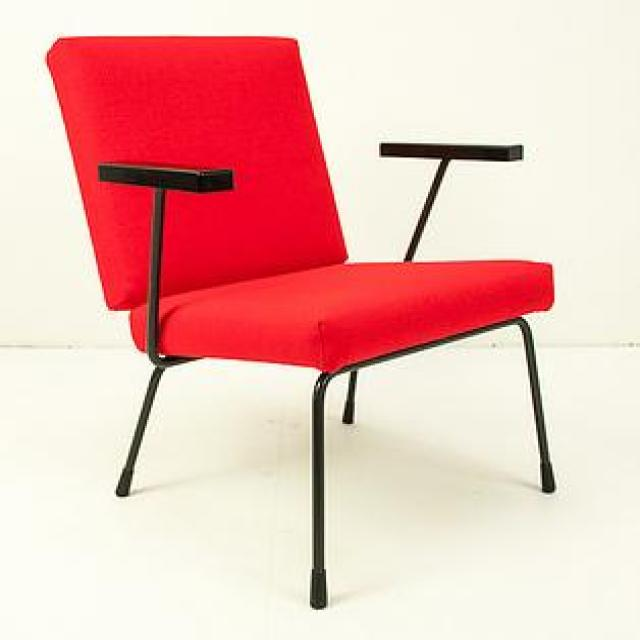chair: (43, 32, 556, 610)
